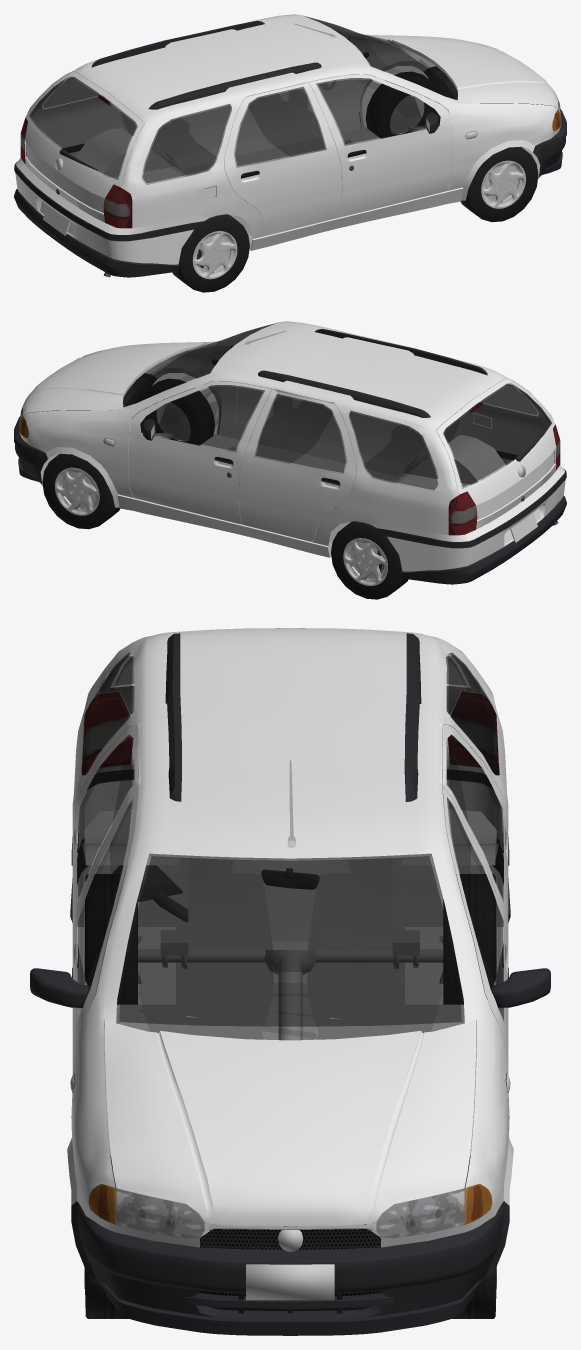
The model's file is BoltGX-2.dae.
The picture shows the model from 3 angles, top to bottom: view 1: azimuth 30°, elevation 25°; view 2: azimuth 150°, elevation 25°; view 3: azimuth 270°, elevation 25°; orthographic projection. The views are drawn at different scales.
Parts seen in each view (by area): view 1: Body_Dora, Windows_Dora, Bumper_rear_Dora, Hood_Dora, P_Windows_Dora.001, P_Body_Dora, INT_DORA, Chassis_Parts_Dora, TIRE_PALIO_RR, TIRE_PALIO_FR, Hack_dora, TIRE_PALIO_FL (+9 smaller); view 2: Body_Dora, Windows_Dora, Bumper_rear_Dora, Hood_Dora, P_Windows_Dora.001, P_Body_Dora, INT_DORA, Chassis_Parts_Dora, TIRE_PALIO_RL, TIRE_PALIO_FL, Hack_dora, TIRE_PALIO_FR (+8 smaller); view 3: Body_Dora, Windows_Dora, Hood_Dora, Bumper_front_dora, Chassis_Parts_Dora, INT_DORA, axle_Dora, Bumper_rear_Dora, Hack_dora, V_Farol_R_Dora, V_Farol_L_Dora, TIRE_PALIO_RL (+12 smaller).
Boxes of the visible parts, bbox=[...] form: Body_Dora: bbox=[24, 14, 561, 250]; Windows_Dora: bbox=[44, 16, 455, 183]; Bumper_rear_Dora: bbox=[14, 136, 209, 277]; Hood_Dora: bbox=[364, 34, 557, 108]; P_Windows_Dora.001: bbox=[30, 77, 135, 179]; P_Body_Dora: bbox=[24, 71, 144, 222]; INT_DORA: bbox=[33, 42, 437, 222]; Chassis_Parts_Dora: bbox=[25, 38, 551, 249]; TIRE_PALIO_RR: bbox=[172, 214, 249, 292]; TIRE_PALIO_FR: bbox=[461, 147, 538, 222]; Hack_dora: bbox=[91, 21, 321, 109]; TIRE_PALIO_FL: bbox=[366, 72, 448, 138]; Body_Dora: bbox=[19, 321, 556, 557]; Windows_Dora: bbox=[125, 323, 536, 490]; Bumper_rear_Dora: bbox=[371, 443, 566, 584]; Hood_Dora: bbox=[23, 341, 216, 415]; P_Windows_Dora.001: bbox=[445, 384, 550, 486]; P_Body_Dora: bbox=[436, 378, 556, 528]; INT_DORA: bbox=[143, 355, 539, 529]; Chassis_Parts_Dora: bbox=[28, 345, 555, 556]; TIRE_PALIO_RL: bbox=[331, 521, 408, 599]; TIRE_PALIO_FL: bbox=[42, 453, 119, 529]; Hack_dora: bbox=[258, 329, 487, 417]; TIRE_PALIO_FR: bbox=[135, 379, 214, 445]; Body_Dora: bbox=[67, 628, 513, 1247]; Windows_Dora: bbox=[77, 655, 503, 1026]; Hood_Dora: bbox=[104, 1020, 476, 1225]; Bumper_front_dora: bbox=[71, 1201, 509, 1335]; Chassis_Parts_Dora: bbox=[72, 674, 508, 1310]; INT_DORA: bbox=[80, 653, 500, 1028]; axle_Dora: bbox=[138, 930, 442, 1040]; Bumper_rear_Dora: bbox=[70, 764, 510, 922]; Hack_dora: bbox=[165, 633, 421, 801]; V_Farol_R_Dora: bbox=[88, 1183, 204, 1238]; V_Farol_L_Dora: bbox=[376, 1183, 492, 1238]; TIRE_PALIO_RL: bbox=[443, 874, 496, 1004].
Size of what is drawn, in the model's own units: 5.25 by 2.4 by 2.03.
